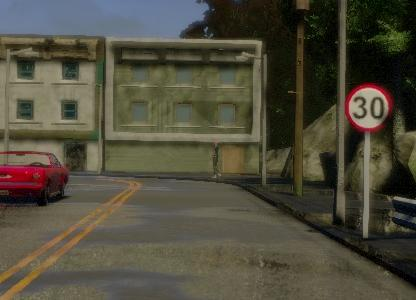Speed_30: (343, 81, 394, 133)
